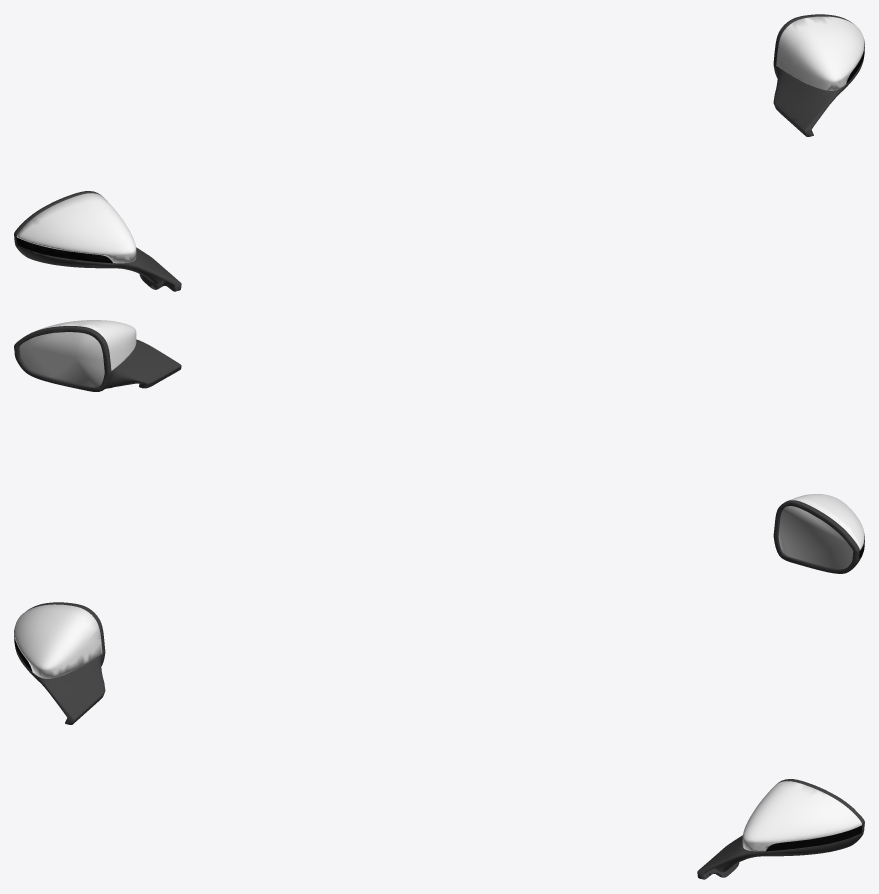
File: mirrors.glb
3 renders of one model, top to bottom at view 1: azimuth 30°, elevation 25°; view 2: azimuth 150°, elevation 25°; view 3: azimuth 330°, elevation 25°, orthographic.
Visible parts, largest first — view 1: carpaint_rearmirrror_carpaint_0, plasticglossy_rearmirrror_plastic_glossy_0, glassclear_rearmirrorlight_glass_clear_0; view 2: mirror_rearmirror_mirror_0, plasticglossy_rearmirrror_plastic_glossy_0, carpaint_rearmirrror_carpaint_0; view 3: carpaint_rearmirrror_carpaint_0, plasticglossy_rearmirrror_plastic_glossy_0, glassclear_rearmirrorlight_glass_clear_0.
Part boxes in pixels (x1,y1,x2,y2): carpaint_rearmirrror_carpaint_0: [16, 16, 864, 263]; plasticglossy_rearmirrror_plastic_glossy_0: [14, 14, 863, 291]; glassclear_rearmirrorlight_glass_clear_0: [16, 41, 864, 263]; mirror_rearmirror_mirror_0: [19, 332, 853, 568]; plasticglossy_rearmirrror_plastic_glossy_0: [14, 326, 863, 573]; carpaint_rearmirrror_carpaint_0: [37, 320, 864, 550]; carpaint_rearmirrror_carpaint_0: [14, 604, 861, 851]; plasticglossy_rearmirrror_plastic_glossy_0: [15, 602, 864, 879]; glassclear_rearmirrorlight_glass_clear_0: [14, 630, 862, 851].
Bounding box in the file's own units: 212 × 17.74 × 25.67.
5 materials, 5 textured.
